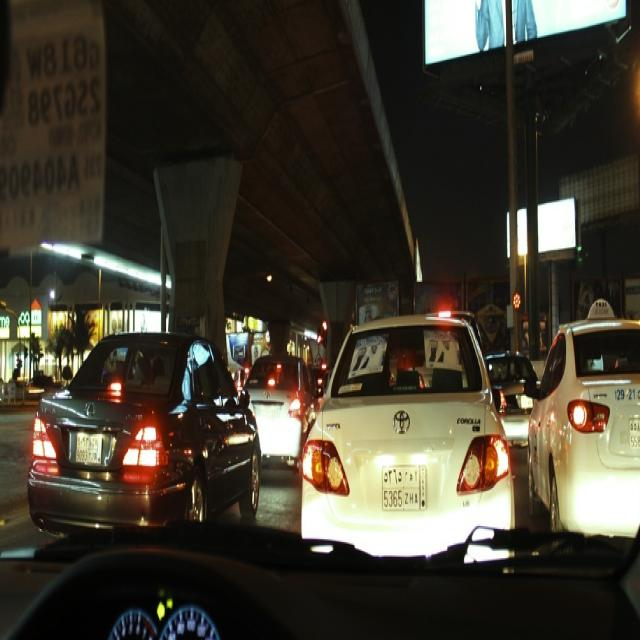license_plate: (380, 464, 428, 514), (75, 430, 103, 468)
